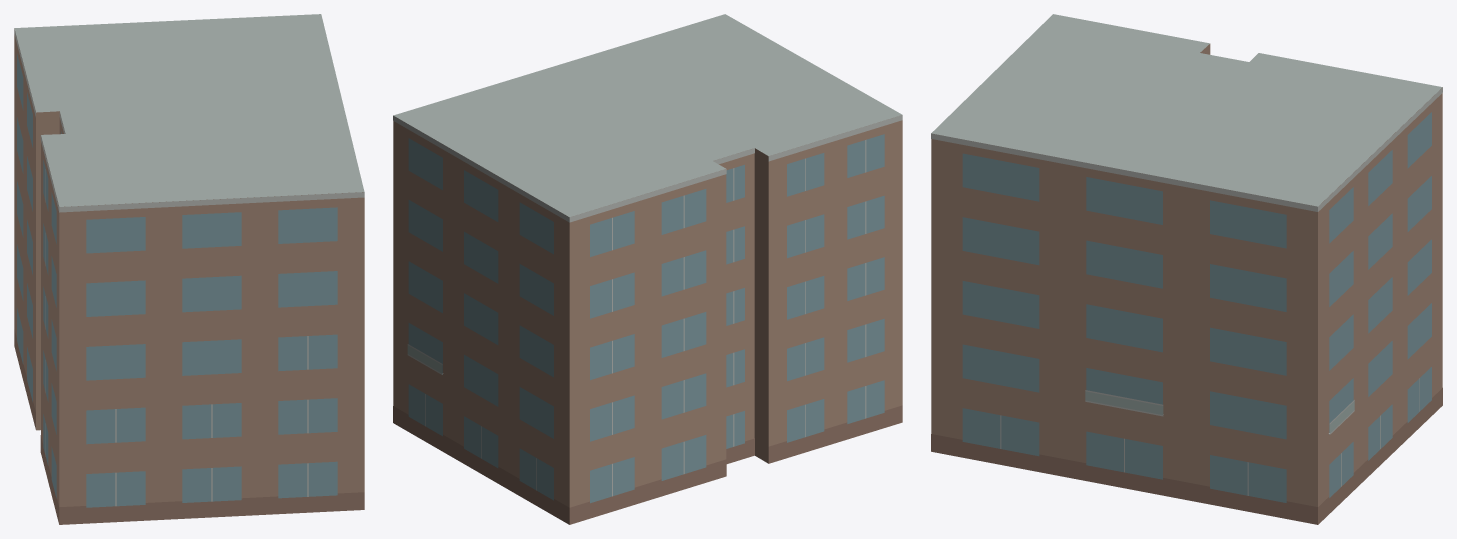
The model's file is survey-upis-32669270.glb.
3 views of the same model, side by side, from view 1: azimuth 30°, elevation 25°; view 2: azimuth 150°, elevation 25°; view 3: azimuth 270°, elevation 25° (orthographic). The views are drawn at different scales.
Visible parts, largest first — view 1: survey-upis-32669270.tmp; view 2: survey-upis-32669270.tmp; view 3: survey-upis-32669270.tmp.
Part boxes in pixels (x1,y1,x2,y2): survey-upis-32669270.tmp: (14,14,364,524); survey-upis-32669270.tmp: (393,14,902,524); survey-upis-32669270.tmp: (931,14,1442,524).
Size of the model in its own units: 18.36 by 14.14 by 20.61.
